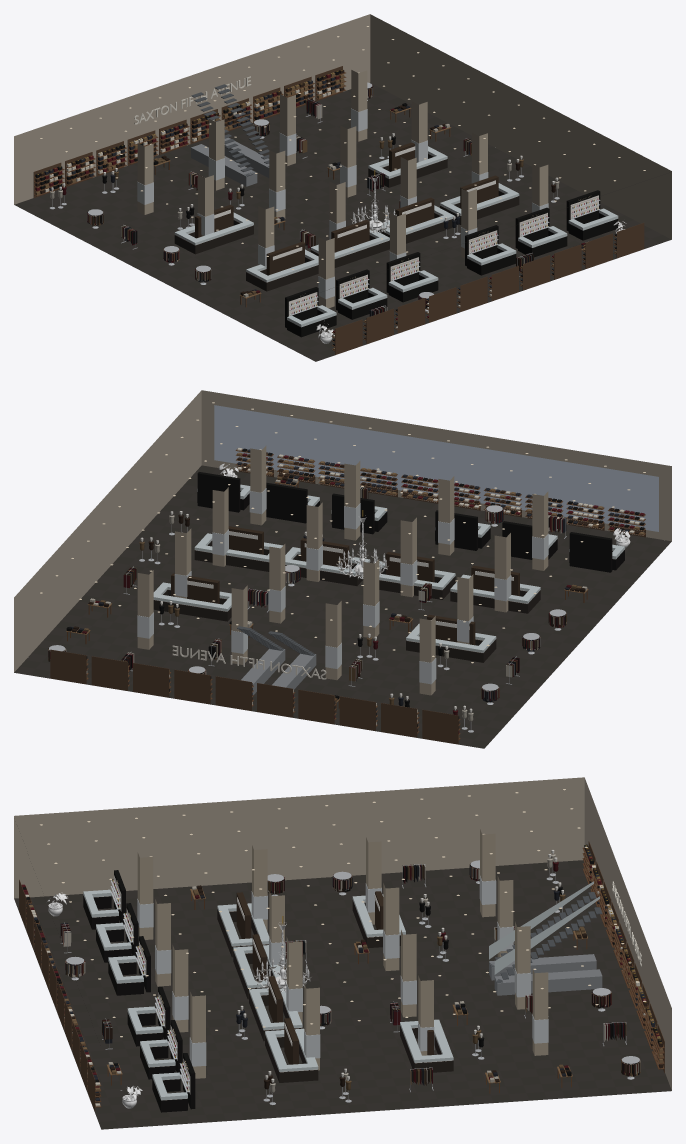
Rendered from saks_int.glb.
3 views of the same model, one above another, from view 1: azimuth 30°, elevation 25°; view 2: azimuth 150°, elevation 25°; view 3: azimuth 270°, elevation 25° (orthographic). The views are drawn at different scales.
Parts seen in each view (by area): view 1: I_x_marble_black, I_x_plaster, I_paint, I_d_x_veneer, I_x_veneer, I_glassI, I_chrome, I_d_x_leather, I_d_x_velvet, I_metal, I_ceilglow, I_lampI (+4 smaller); view 2: I_x_marble_black, I_x_plaster, I_paint, I_sky, I_d_x_veneer, I_x_veneer, I_chrome, I_d_paint, I_d_x_velvet, I_glassI, I_lampI, I_metal (+3 smaller); view 3: I_x_marble_black, I_x_plaster, I_paint, I_glassI, I_chrome, I_d_x_veneer, I_d_x_velvet, I_x_veneer, I_metal, I_d_metal, I_d_paint, I_d_x_leather (+2 smaller).
Boxes of the visible parts, left/top/right/bottom form: I_x_marble_black: left=14, top=82, right=671, bottom=361; I_x_plaster: left=14, top=14, right=671, bottom=289; I_paint: left=137, top=70, right=548, bottom=308; I_d_x_veneer: left=33, top=66, right=644, bottom=354; I_x_veneer: left=285, top=190, right=618, bottom=337; I_glassI: left=174, top=146, right=618, bottom=327; I_chrome: left=137, top=108, right=600, bottom=315; I_d_x_leather: left=35, top=69, right=344, bottom=195; I_d_x_velvet: left=50, top=85, right=585, bottom=316; I_metal: left=191, top=84, right=269, bottom=186; I_ceilglow: left=288, top=195, right=598, bottom=316; I_lampI: left=40, top=26, right=645, bottom=282; I_x_marble_black: left=14, top=465, right=671, bottom=748; I_x_plaster: left=14, top=390, right=671, bottom=672; I_paint: left=137, top=445, right=548, bottom=695; I_sky: left=214, top=405, right=658, bottom=531; I_d_x_veneer: left=50, top=448, right=645, bottom=744; I_x_veneer: left=197, top=472, right=624, bottom=572; I_chrome: left=137, top=488, right=548, bottom=684; I_d_paint: left=140, top=448, right=644, bottom=712; I_d_x_velvet: left=48, top=476, right=587, bottom=721; I_glassI: left=153, top=484, right=624, bottom=652; I_lampI: left=40, top=402, right=645, bottom=663; I_metal: left=237, top=626, right=316, bottom=694; I_x_marble_black: left=14, top=860, right=671, bottom=1129; I_x_plaster: left=14, top=777, right=671, bottom=1090; I_paint: left=137, top=829, right=548, bottom=1082; I_glassI: left=83, top=881, right=599, bottom=1100; I_chrome: left=110, top=876, right=548, bottom=1092; I_d_x_veneer: left=19, top=841, right=664, bottom=1111; I_d_x_velvet: left=60, top=854, right=640, bottom=1092; I_x_veneer: left=83, top=870, right=195, bottom=1112; I_metal: left=489, top=892, right=602, bottom=995; I_d_metal: left=60, top=845, right=661, bottom=1105; I_d_paint: left=21, top=850, right=563, bottom=1106; I_d_x_leather: left=584, top=844, right=662, bottom=1068.
Size of the model in its own units: 41.95 by 6.2 by 43.27.
